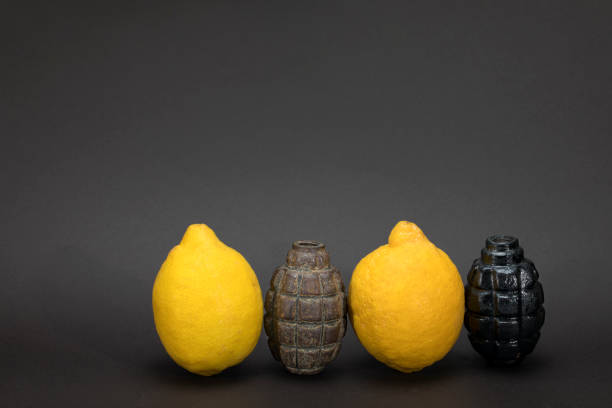e1: (263, 238, 348, 376), (466, 234, 547, 375)
